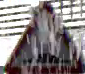Speed Breaker ahead: (1, 2, 84, 73)
